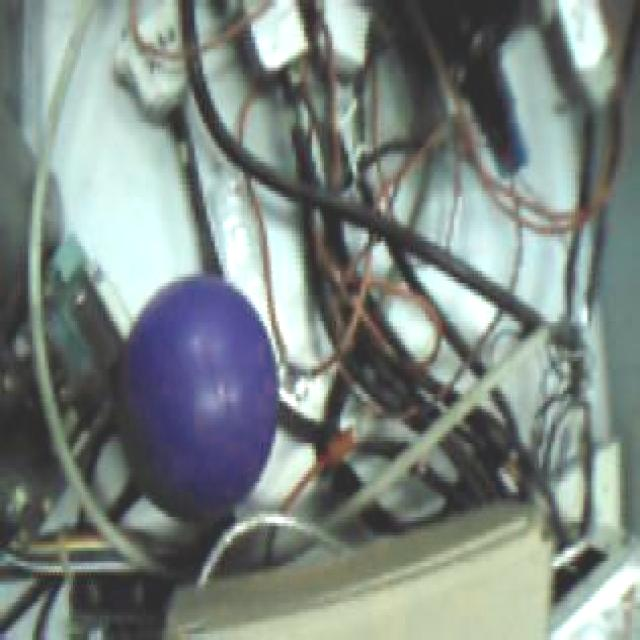BallPurple: (117, 272, 279, 522)
